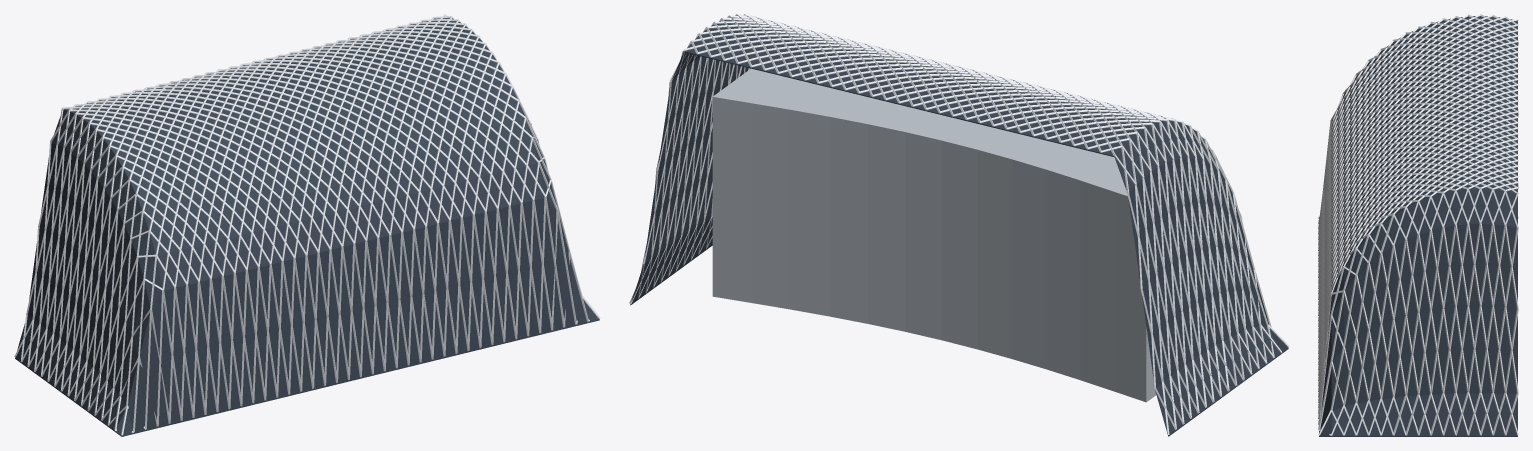
File: yas_hotel.glb
3 views of the same model, side by side, from view 1: azimuth 30°, elevation 25°; view 2: azimuth 150°, elevation 25°; view 3: azimuth 270°, elevation 25° (orthographic). The views are drawn at different scales.
Visible parts, largest first — view 1: panels, gridshell; view 2: block, panels, gridshell; view 3: panels, gridshell.
Boxes of the visible parts, x1,y1,x2,y2 form: panels: [15, 18, 599, 436]; gridshell: [14, 14, 600, 435]; block: [712, 68, 1156, 402]; panels: [630, 18, 1288, 436]; gridshell: [629, 14, 1289, 434]; panels: [1319, 16, 1517, 436]; gridshell: [1318, 14, 1518, 435].
Size of the model in its own units: 124 by 60.76 by 48.52.
